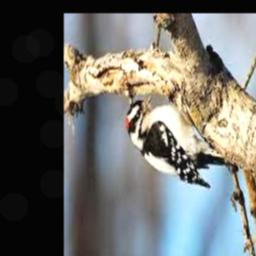Woodpecker: (126, 92, 238, 187)
